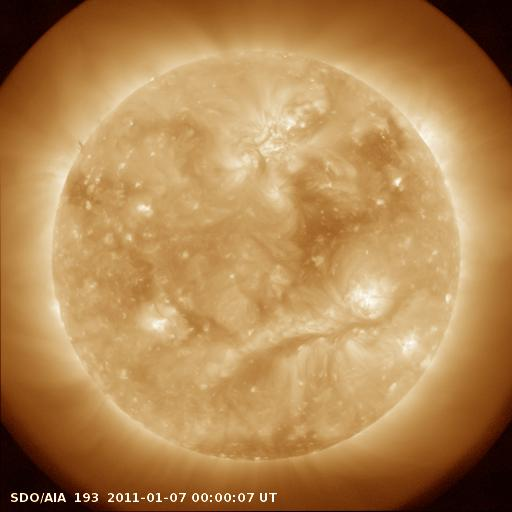coronal_hole: (287, 173, 375, 281), (349, 114, 417, 167), (196, 434, 331, 460)
